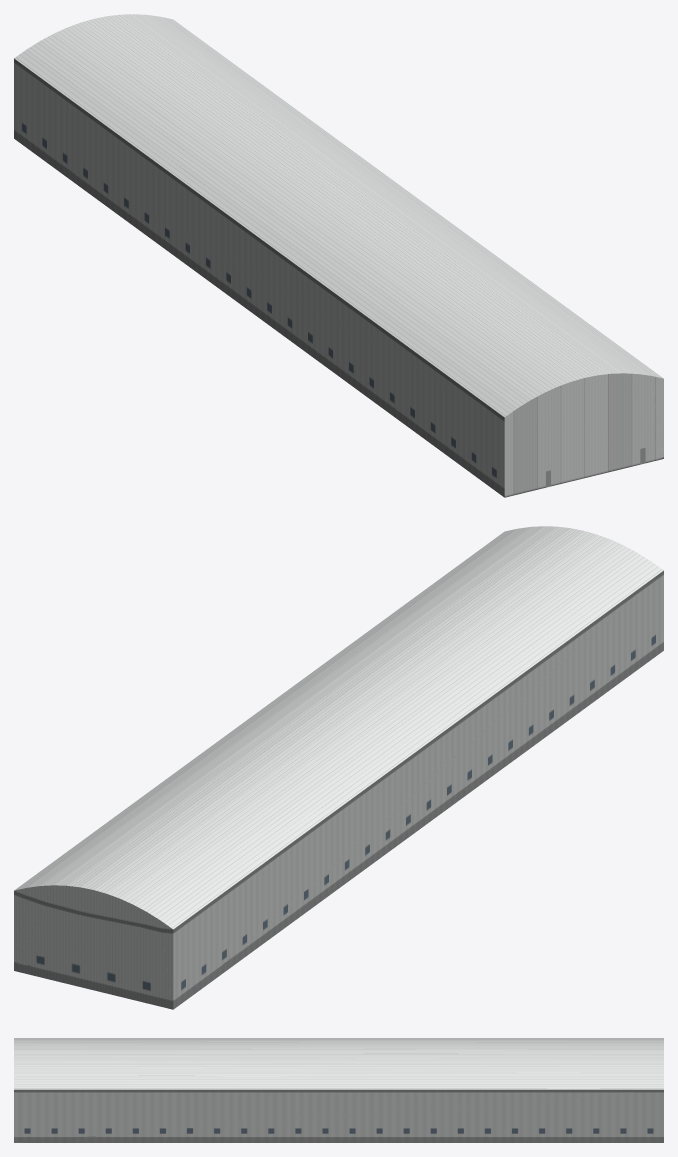
File: khsv_hangar_27x144.glb
3 views of the same model, one above another, from view 1: azimuth 30°, elevation 25°; view 2: azimuth 150°, elevation 25°; view 3: azimuth 270°, elevation 25° (orthographic). The views are drawn at different scales.
Parts seen in each view (by area): view 1: khsv_hangar_27x144_hangar_roof, khsv_hangar_27x144_hangar_wall, khsv_hangar_27x144_hangar_door; view 2: khsv_hangar_27x144_hangar_roof, khsv_hangar_27x144_hangar_wall; view 3: khsv_hangar_27x144_hangar_wall, khsv_hangar_27x144_hangar_roof.
Part boxes in pixels (x1,y1,x2,y2): khsv_hangar_27x144_hangar_roof: [14, 14, 663, 417]; khsv_hangar_27x144_hangar_wall: [14, 58, 504, 497]; khsv_hangar_27x144_hangar_door: [504, 373, 663, 497]; khsv_hangar_27x144_hangar_roof: [14, 526, 663, 929]; khsv_hangar_27x144_hangar_wall: [14, 570, 663, 1009]; khsv_hangar_27x144_hangar_wall: [14, 1089, 663, 1142]; khsv_hangar_27x144_hangar_roof: [14, 1038, 663, 1089].
Bounding box in the file's own units: 27 × 16.24 × 144.
3 materials, 3 textured.
